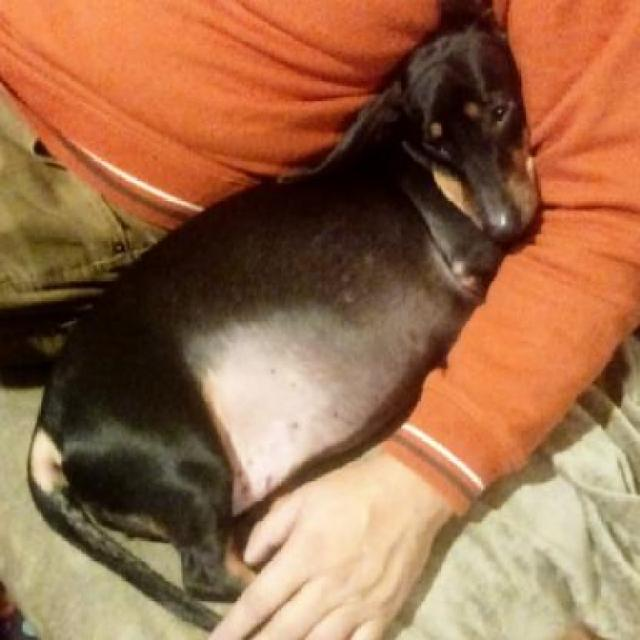Dog: (20, 0, 549, 638)
